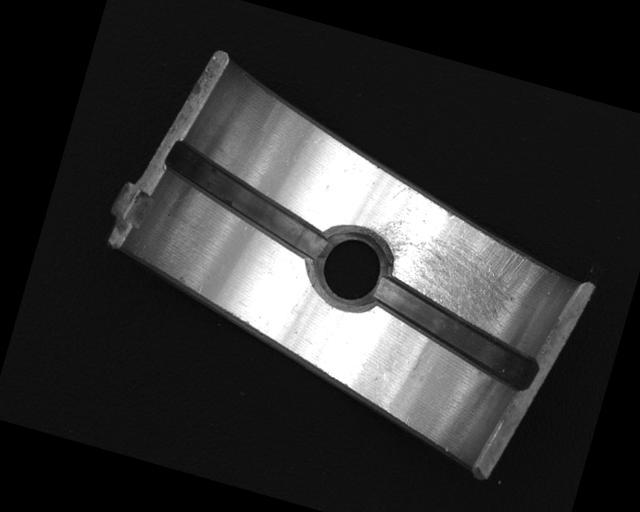gap: (149, 139, 342, 264), (356, 271, 552, 394)
hole: (298, 215, 402, 322)
scratch: (359, 178, 560, 352)
